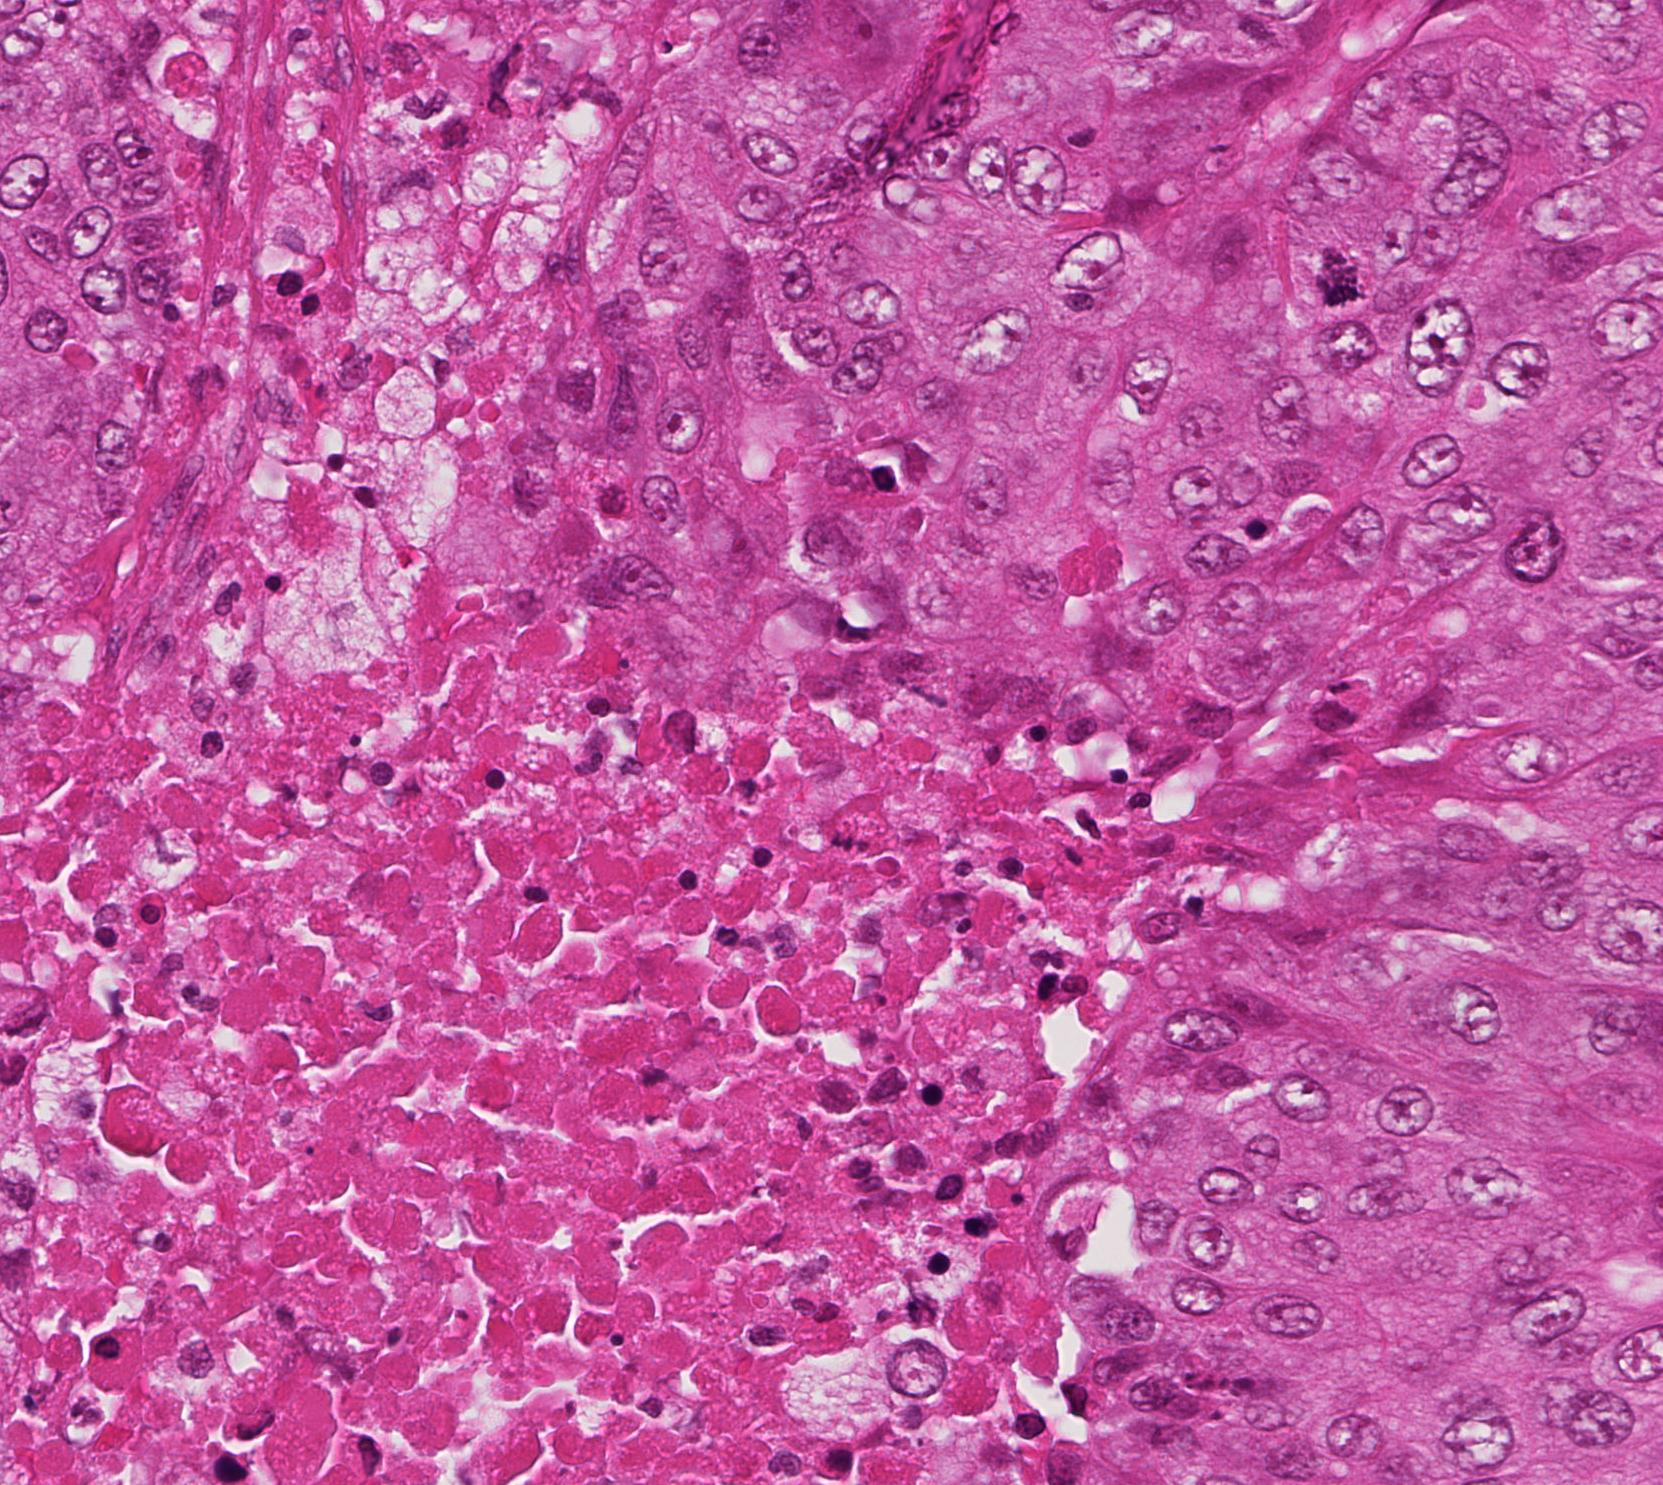mitosis: (1307, 255, 1368, 315)
